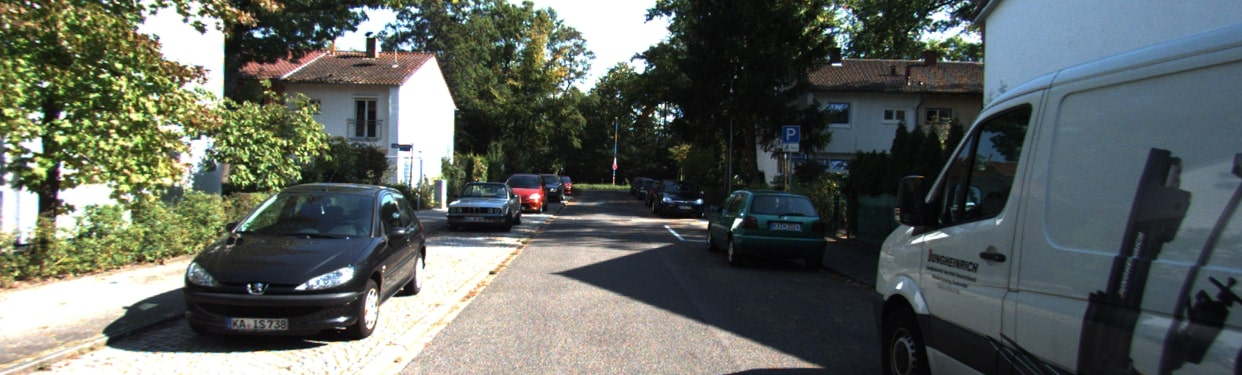car: (864, 55, 1242, 364), (178, 171, 435, 352), (703, 184, 829, 273), (437, 184, 520, 229), (651, 176, 703, 219), (506, 168, 546, 221), (541, 169, 567, 199), (635, 172, 652, 206), (559, 171, 576, 197)
